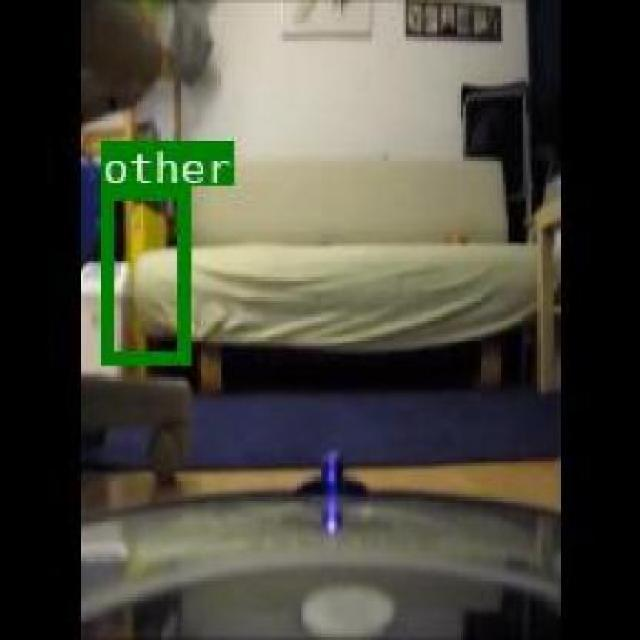other: (100, 184, 188, 363)
